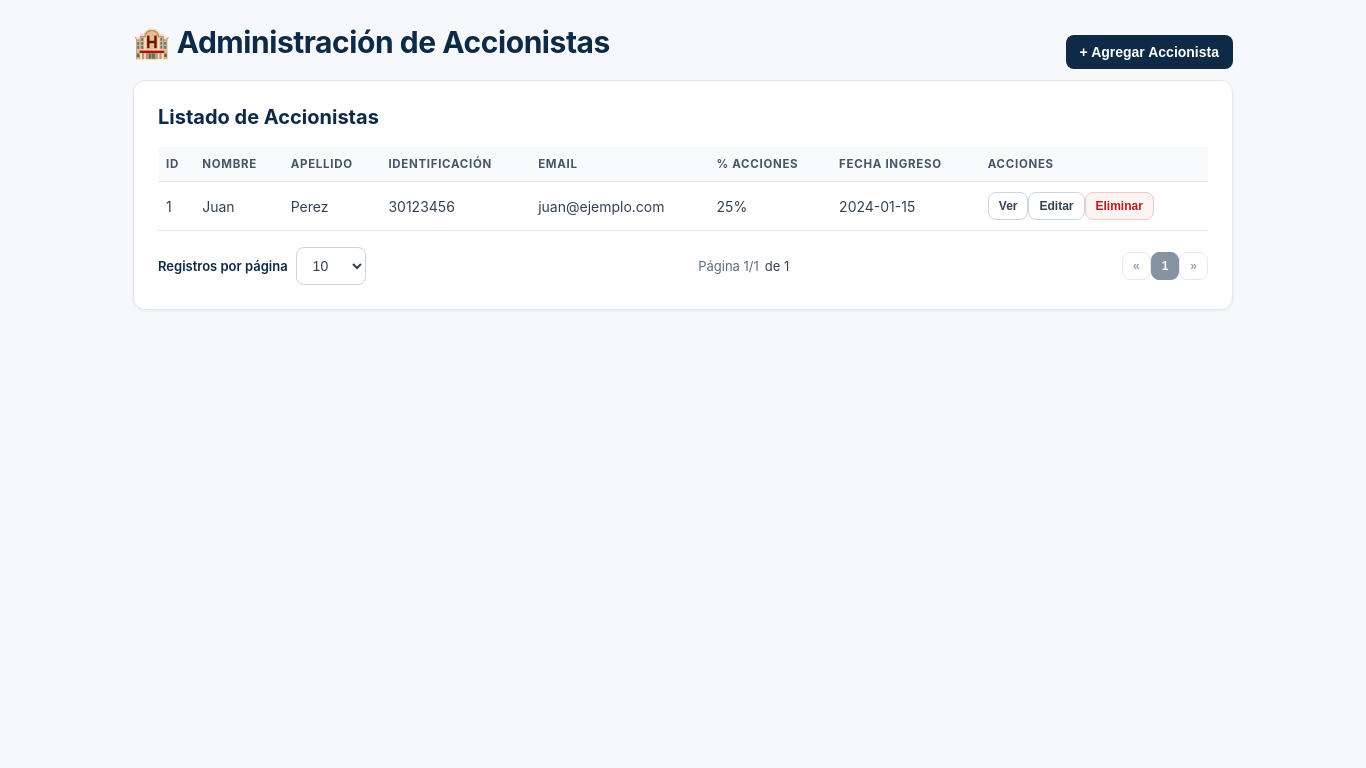
it: AccionistasManager con popup de alta/edición › pide confirmación en un popup antes de eliminar y envía DELETE al confirmar
This screenshot has width=1366, height=768.
Expected: the text "Juan" is shown, [194, 182, 283, 231]
Click the button "Eliminar" at (1119, 206), box [1084, 192, 1154, 220]
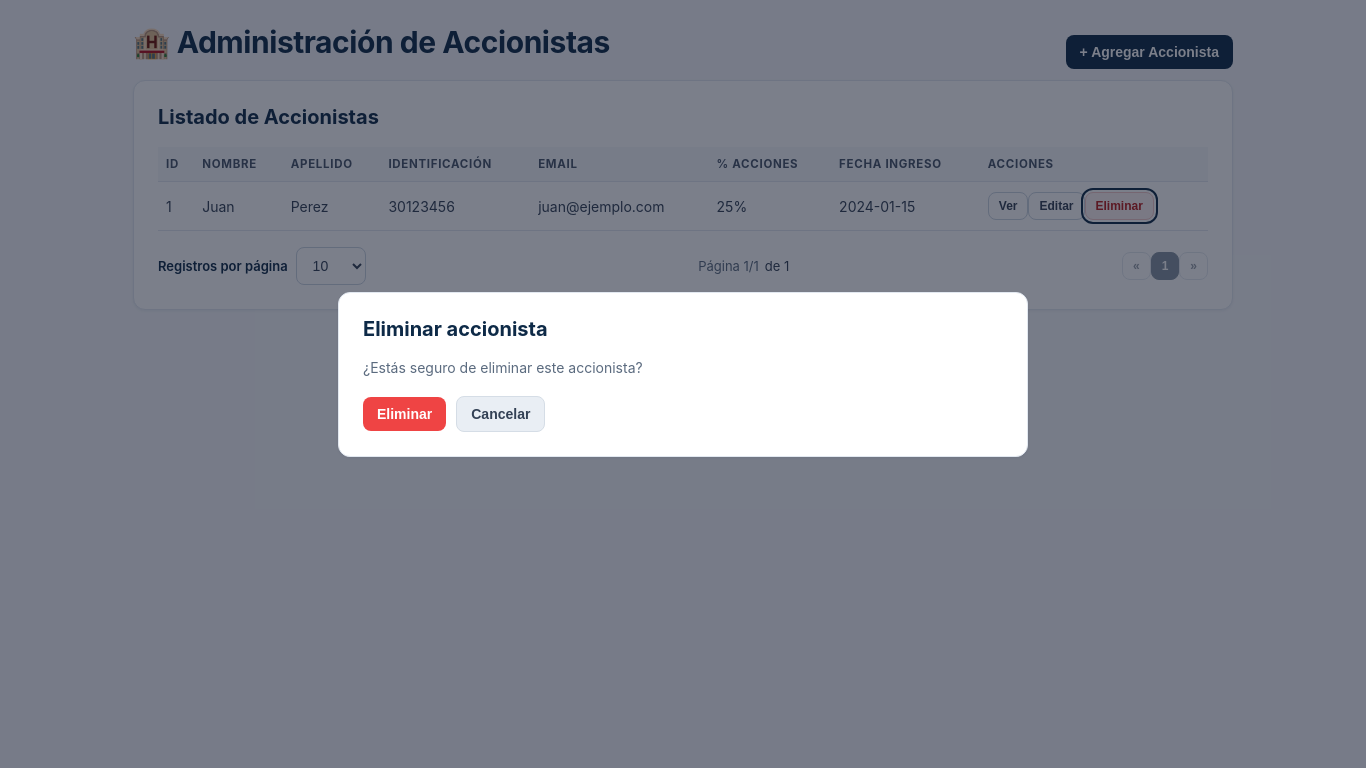
Expected: the dialog is shown, [338, 292, 1028, 456]
Expected: the text "¿Estás seguro de eliminar este accionista?" is shown, [363, 358, 643, 376]
Click the button "Eliminar" at (405, 414), box [363, 396, 446, 430]
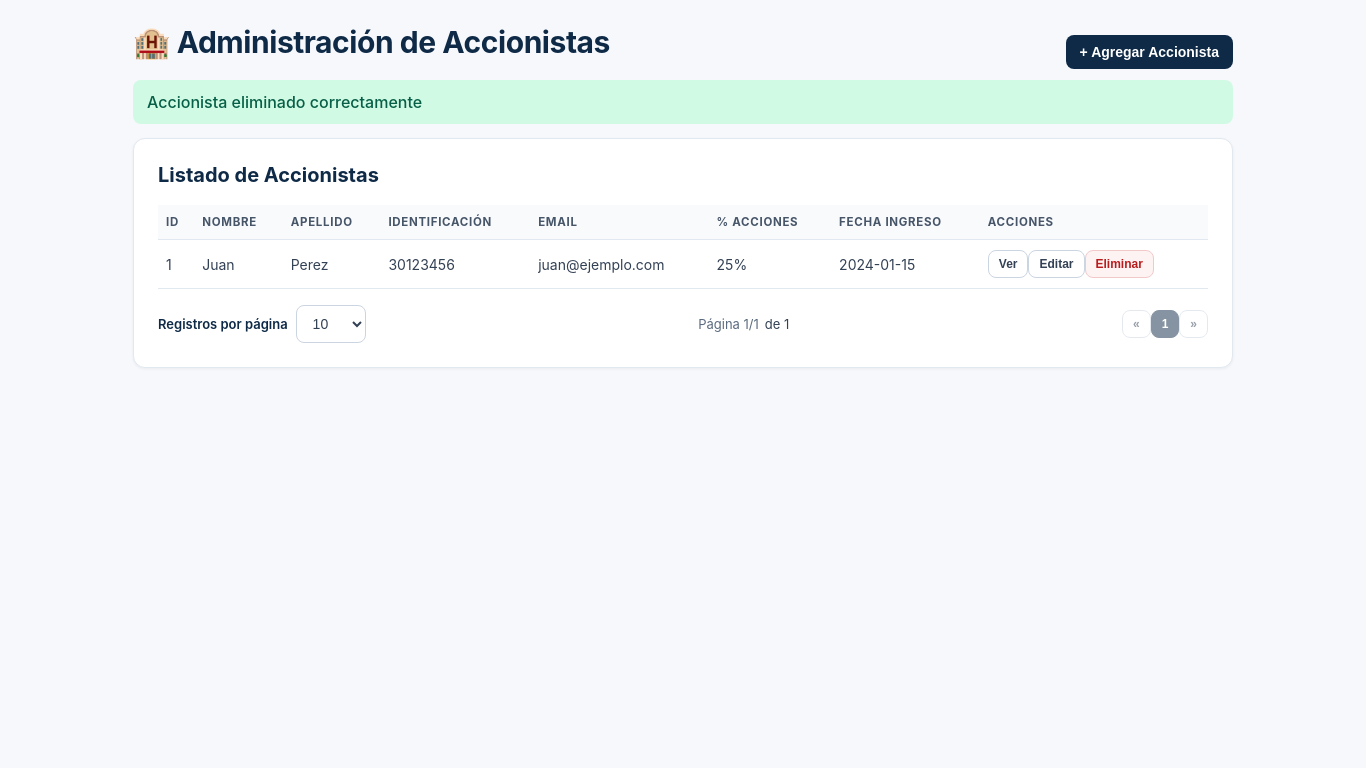
Expected: the dialog is gone
Expected: the text "Accionista eliminado correctamente" is shown, [133, 80, 1233, 124]
